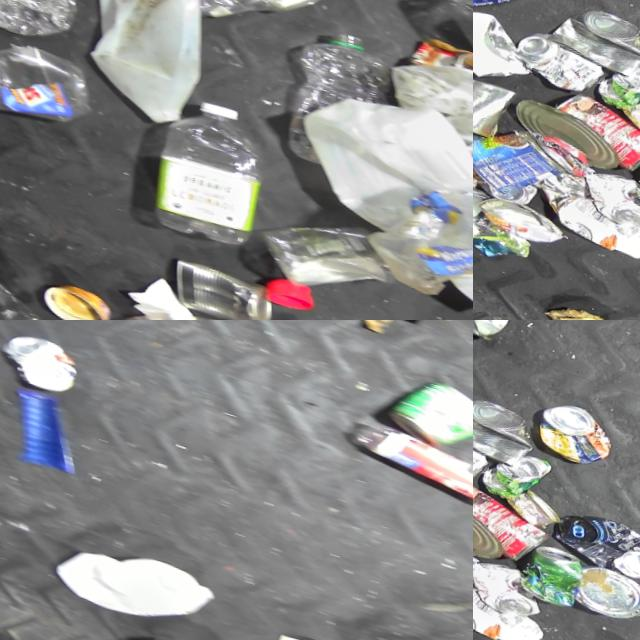can: (253, 200, 398, 305), (473, 107, 577, 208), (162, 247, 294, 320), (507, 94, 631, 171), (544, 84, 640, 176), (382, 363, 473, 458), (473, 474, 558, 566), (544, 0, 640, 79), (511, 24, 612, 98), (551, 501, 640, 584), (532, 393, 621, 468), (0, 325, 92, 397), (473, 384, 543, 469), (473, 551, 553, 621), (475, 190, 572, 247), (518, 536, 592, 606), (479, 441, 555, 506), (39, 266, 124, 320), (575, 558, 640, 626), (577, 161, 640, 231), (473, 65, 520, 141), (473, 484, 515, 561), (503, 481, 567, 530), (595, 50, 640, 116), (479, 169, 542, 207), (473, 414, 496, 487), (473, 112, 491, 194), (473, 0, 522, 25), (473, 177, 495, 227), (619, 90, 640, 140)
milk_jug: (282, 71, 473, 259), (69, 0, 227, 134), (46, 527, 226, 636)
plastic_bottle: (138, 83, 287, 251), (272, 15, 398, 176), (343, 411, 473, 516), (105, 280, 326, 320), (0, 0, 99, 54)
